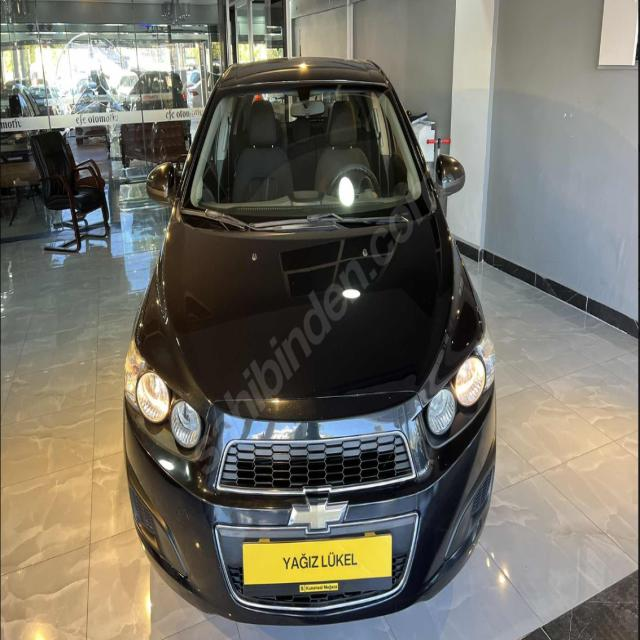chevrolet: (286, 494, 351, 538)
